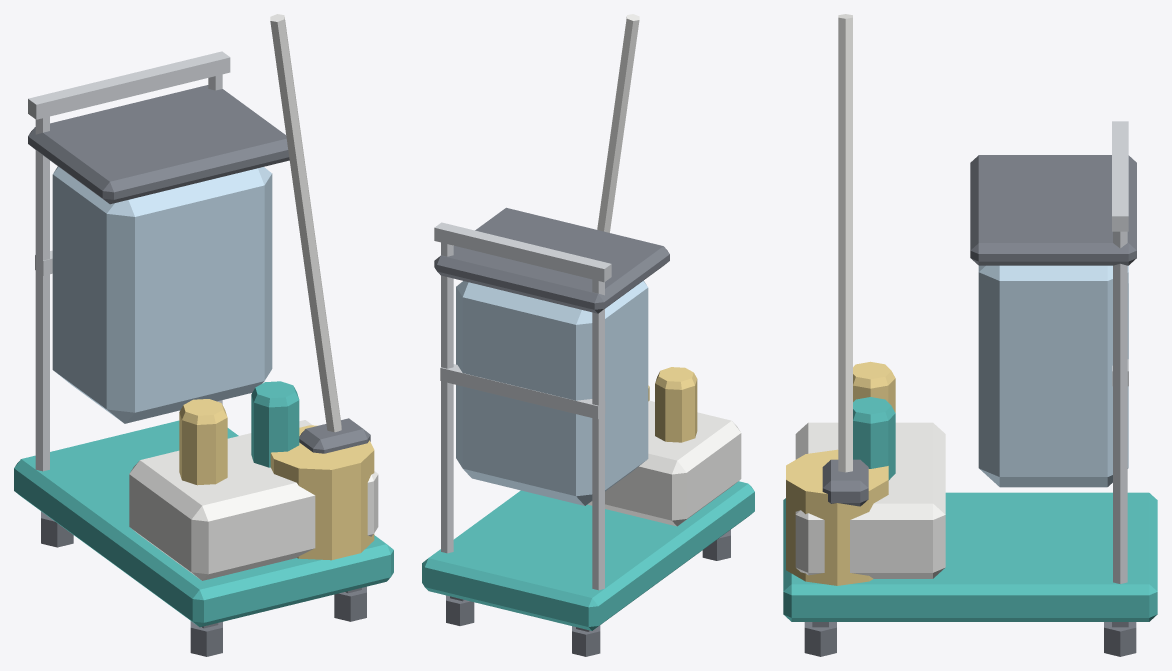
File: medical-23645.glb
The picture shows the model from 3 angles, left to right: view 1: azimuth 30°, elevation 25°; view 2: azimuth 150°, elevation 25°; view 3: azimuth 270°, elevation 25°; orthographic projection. The views are drawn at different scales.
Parts seen in each view (by area): view 1: cleaning-cart; view 2: cleaning-cart; view 3: cleaning-cart.
Part boxes in pixels (left/top/right/bottom): cleaning-cart: left=14, top=14, right=393, bottom=656; cleaning-cart: left=422, top=14, right=754, bottom=656; cleaning-cart: left=783, top=14, right=1157, bottom=656.
Size of the model in its own units: 0.56 by 1.6 by 0.9.
